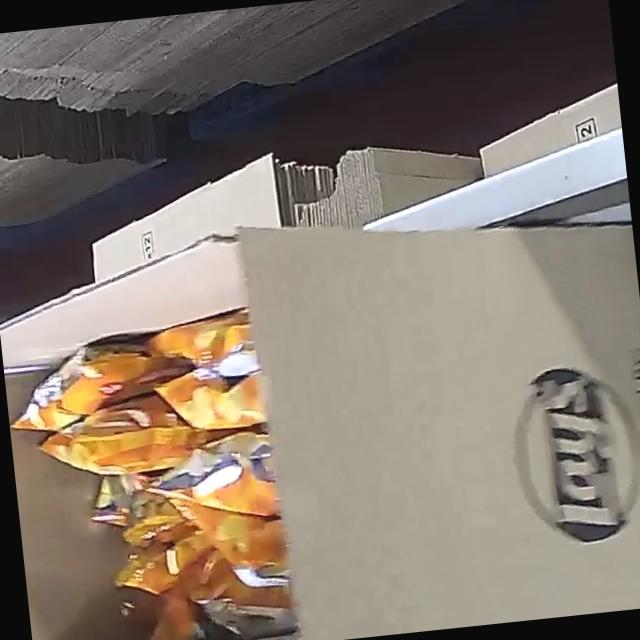cheese: (4, 348, 312, 640)
